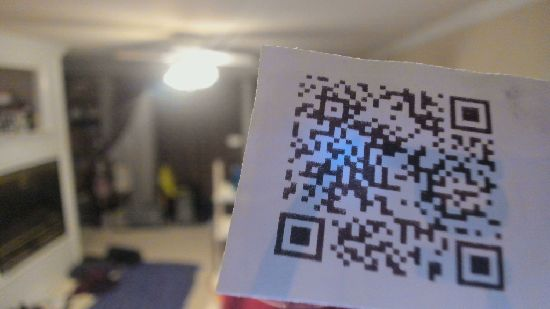QR_CODE: (258, 61, 523, 298)
